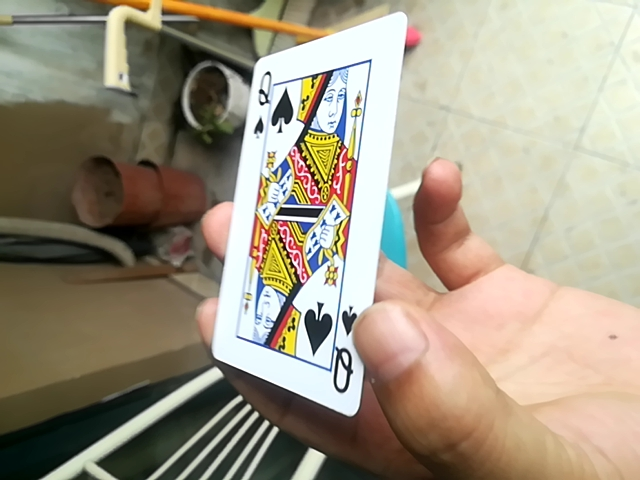ht q: (204, 0, 399, 419)
